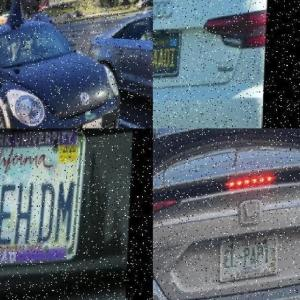Plate: (0, 128, 82, 273), (221, 238, 279, 284), (153, 32, 182, 82)
